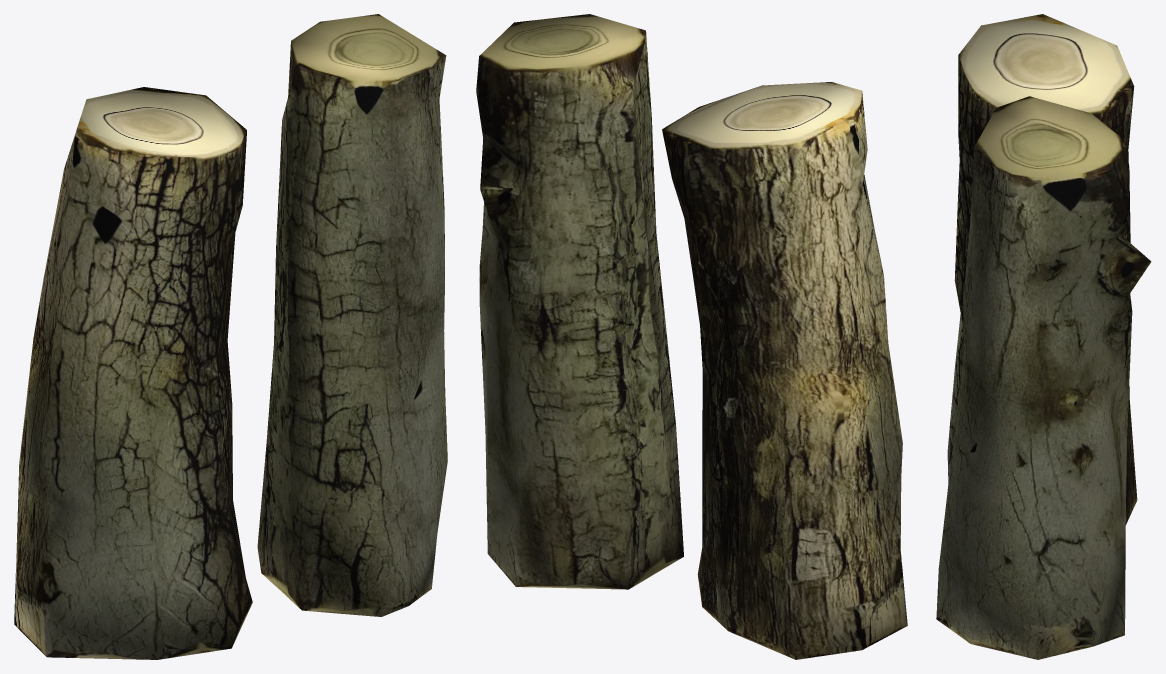
Rendered from logs.glb.
The picture shows the model from 3 angles, left to right: view 1: azimuth 30°, elevation 25°; view 2: azimuth 150°, elevation 25°; view 3: azimuth 270°, elevation 25°; orthographic projection. The views are drawn at different scales.
Parts seen in each view (by area): view 1: Mesh1.0; view 2: Mesh1.0; view 3: Mesh1.0.
Boxes of the visible parts, left/top/right/bottom form: Mesh1.0: left=14, top=14, right=447, bottom=659; Mesh1.0: left=476, top=14, right=907, bottom=659; Mesh1.0: left=936, top=14, right=1151, bottom=659.
Size of the model in its own units: 1.55 by 1.93 by 0.7499.
1 material, 1 textured.
